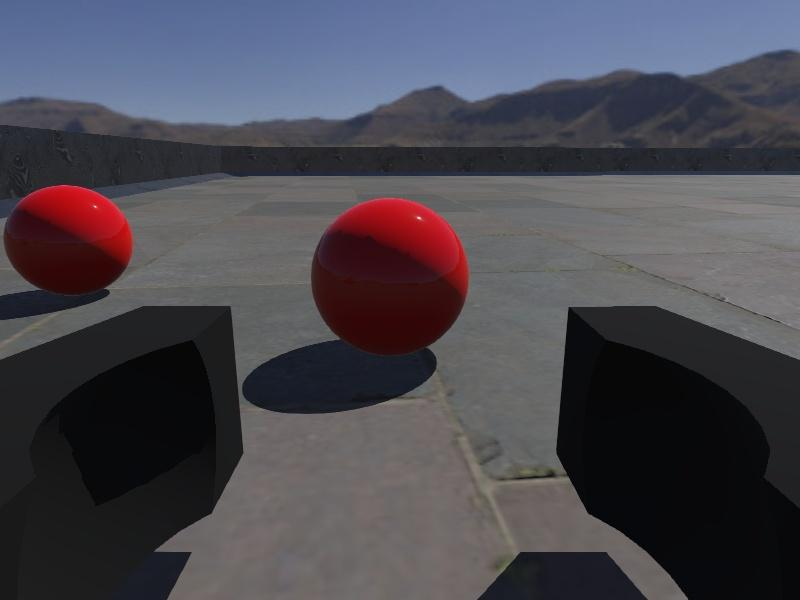red ball: (309, 196, 470, 359), (3, 183, 134, 298)
